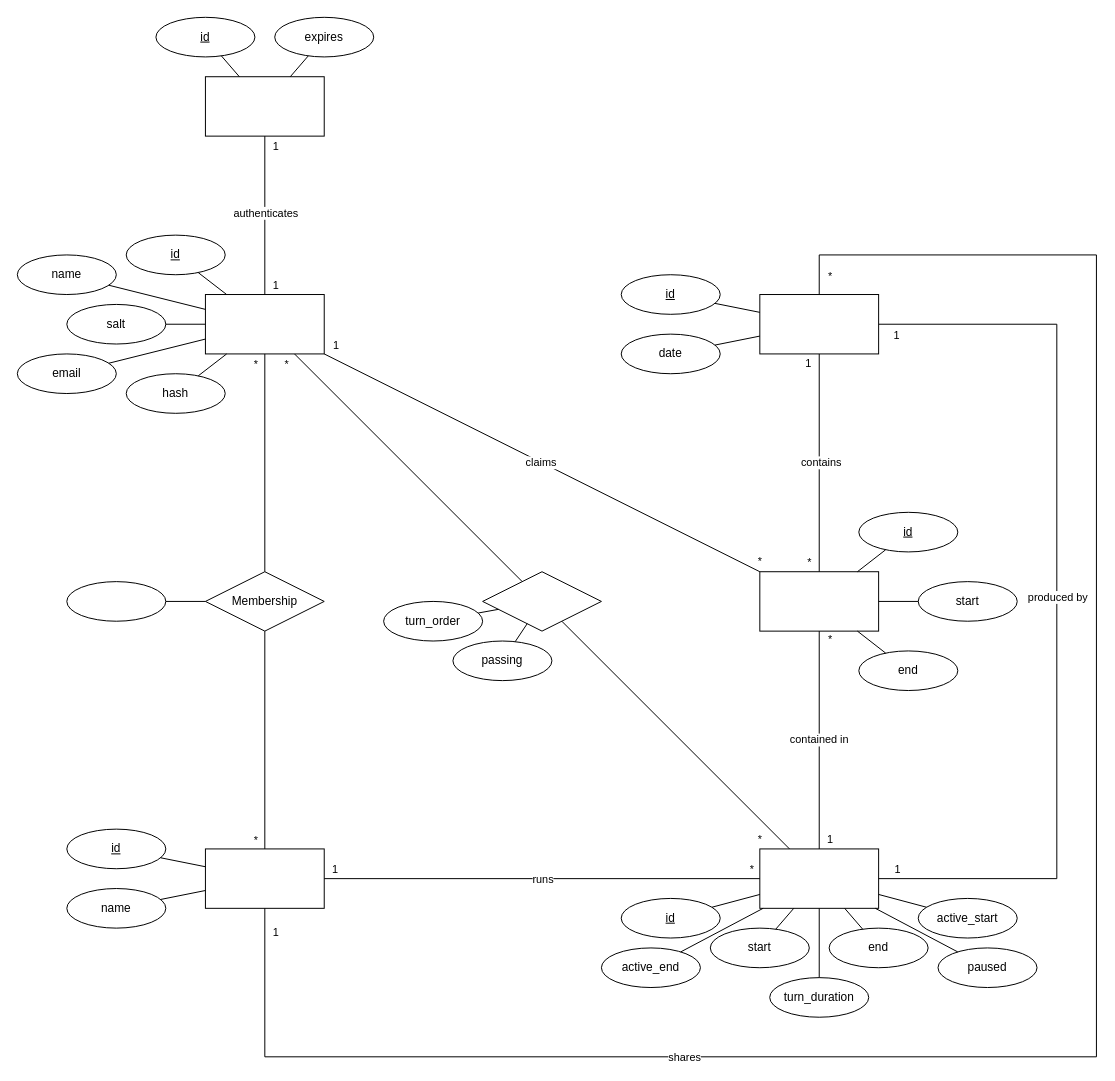
Image size: 1115x1081. Some labels were removed from this diagram. The shapes that lost their labels are listed below. From the top down, each one's centre as x and y in pixels, then its label:
At [264,106]: "Session".
At [264,324]: "User".
At [819,324]: "Schedule".
At [116,601]: "admin".
At [541,601]: "Participation".
At [819,601]: "Shift".
At [264,878]: "Group".
At [819,878]: "Draft".
